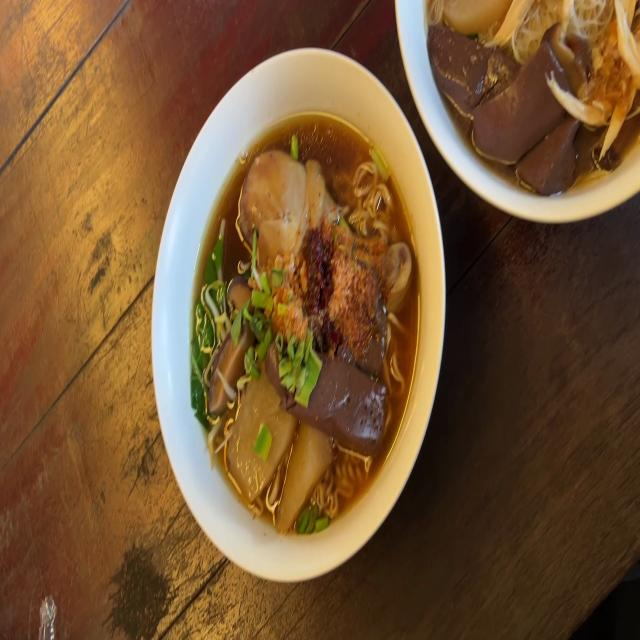noodle: (187, 97, 430, 547), (406, 0, 640, 197)
